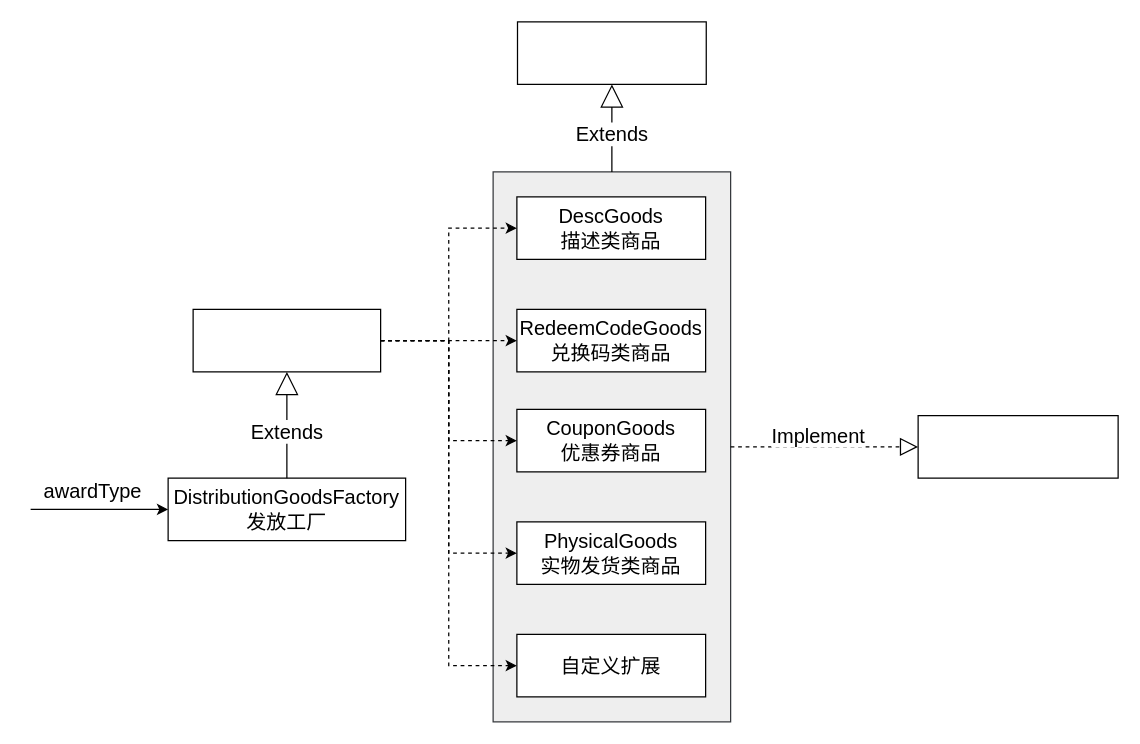
Image size: 1140x744. Some labels were removed from this diagram. The box of each missing label's shape, as (x1, y1, x2, y2) in pixels:
DistributionBase 配送基类定义: (516, 21, 706, 84)
GoodsConfig 产品发放策略组: (192, 308, 381, 372)
IDistributionGoods 配送接口定义: (917, 414, 1118, 478)
